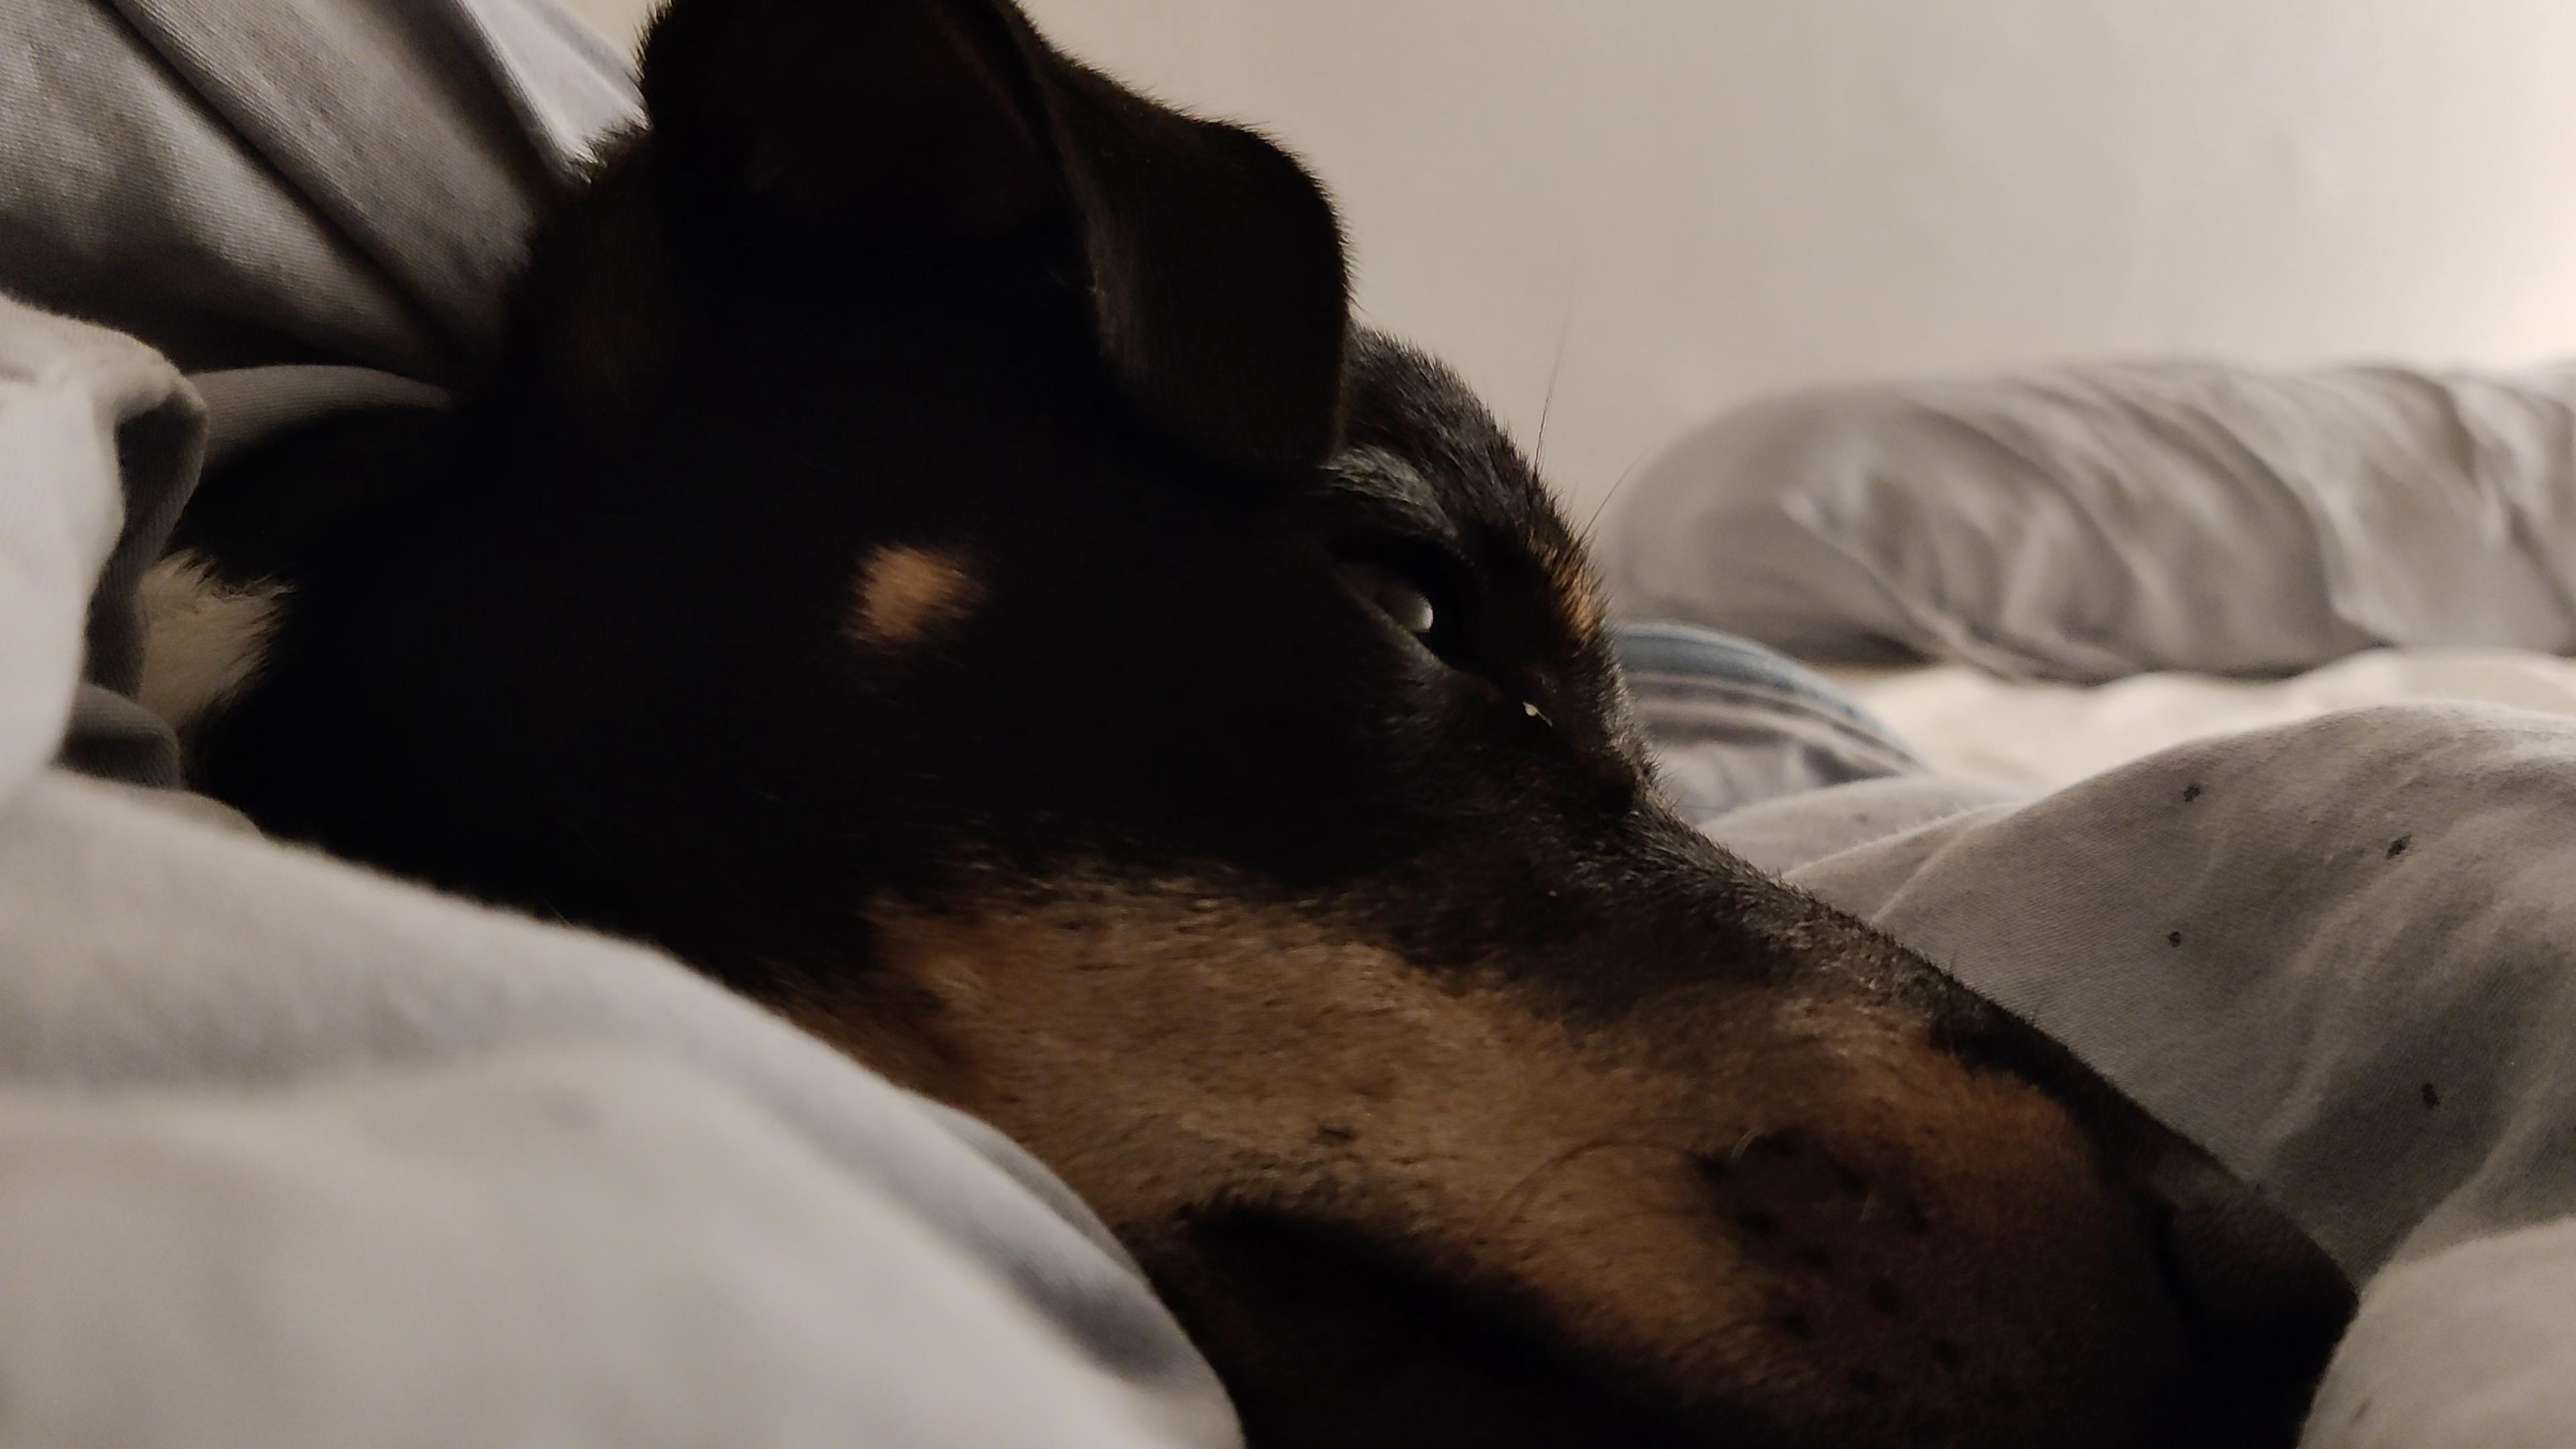Dog: (150, 0, 2376, 1449)
